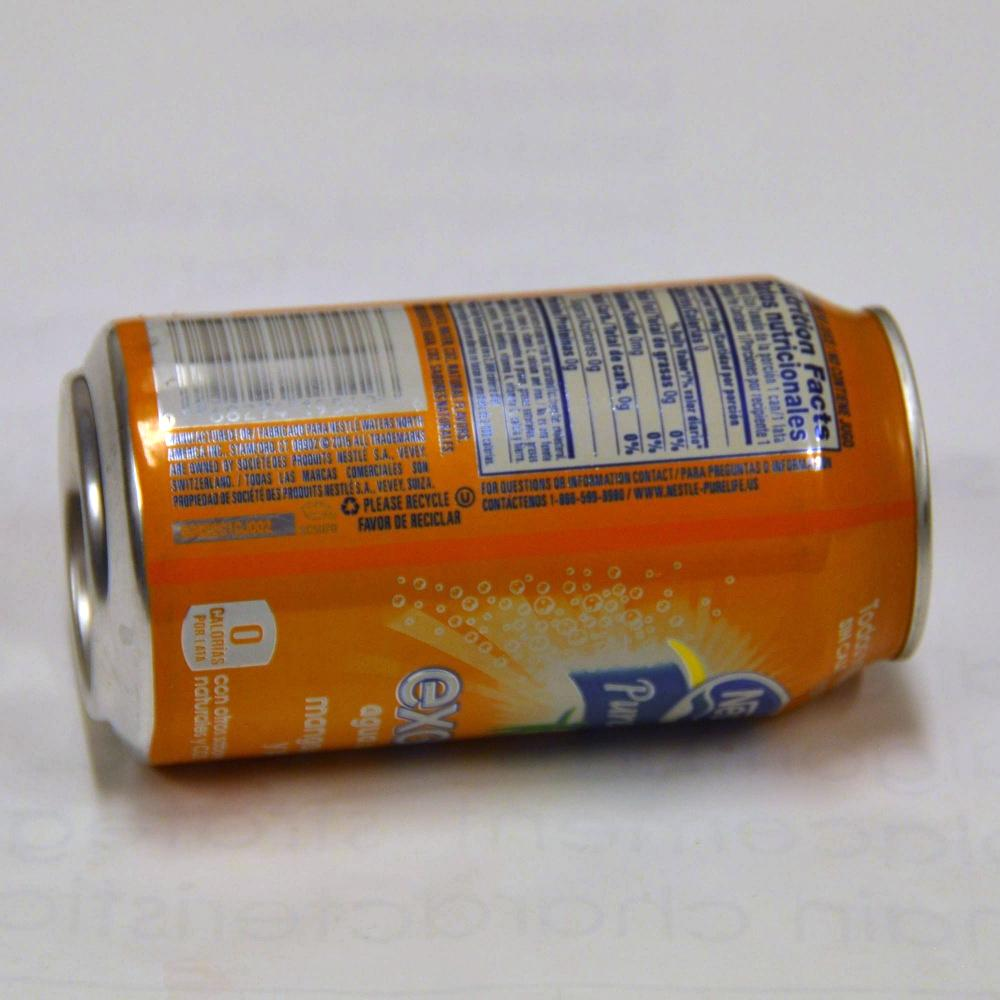Metal: (21, 213, 945, 857)
